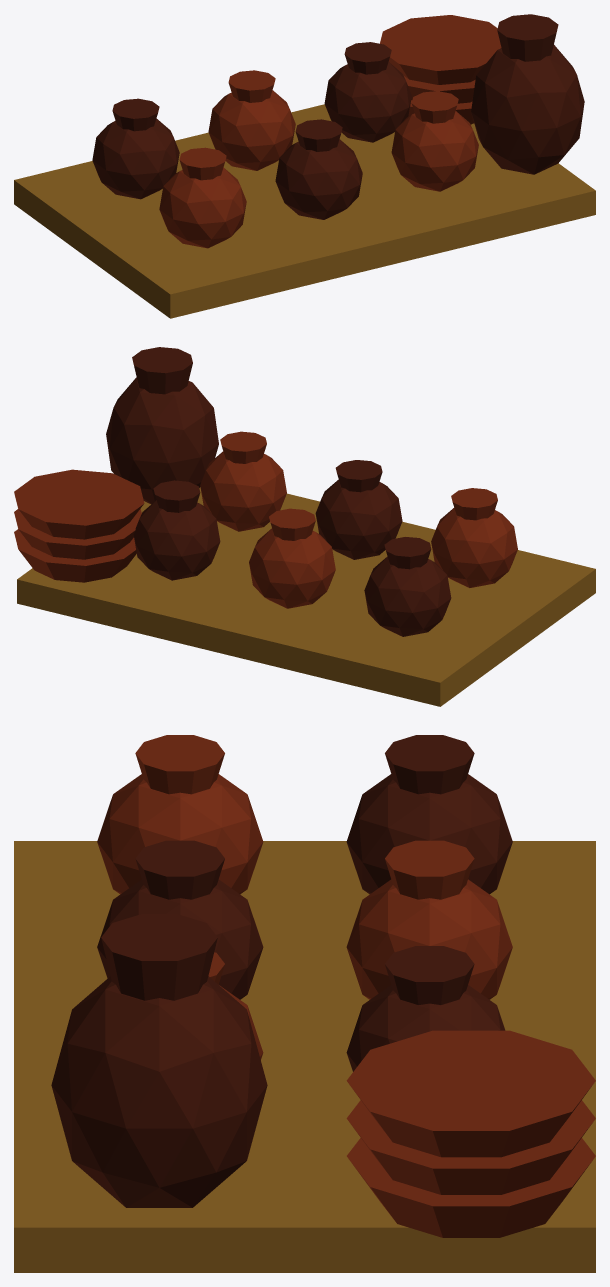
Rendered from ware_stack.fbx.
The picture shows the model from 3 angles, top to bottom: view 1: azimuth 30°, elevation 25°; view 2: azimuth 150°, elevation 25°; view 3: azimuth 270°, elevation 25°; orthographic projection. The views are drawn at different scales.
Visible parts, largest first — view 1: ware_stack; view 2: ware_stack; view 3: ware_stack.
Part boxes in pixels (left/top/right/bottom): ware_stack: left=14, top=14, right=595, bottom=318; ware_stack: left=14, top=347, right=595, bottom=706; ware_stack: left=14, top=735, right=595, bottom=1272.
Bounding box in the file's own units: 2.34 × 0.82 × 1.4.
